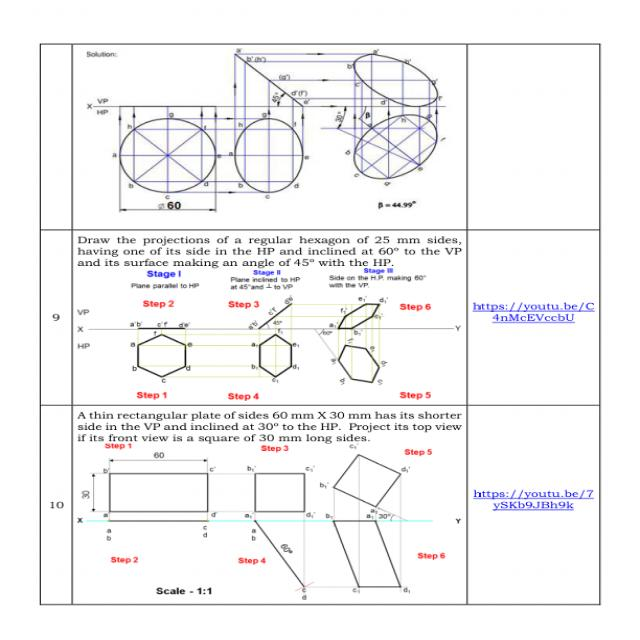Drawings: (82, 46, 457, 222), (74, 440, 467, 598), (75, 266, 464, 400)
